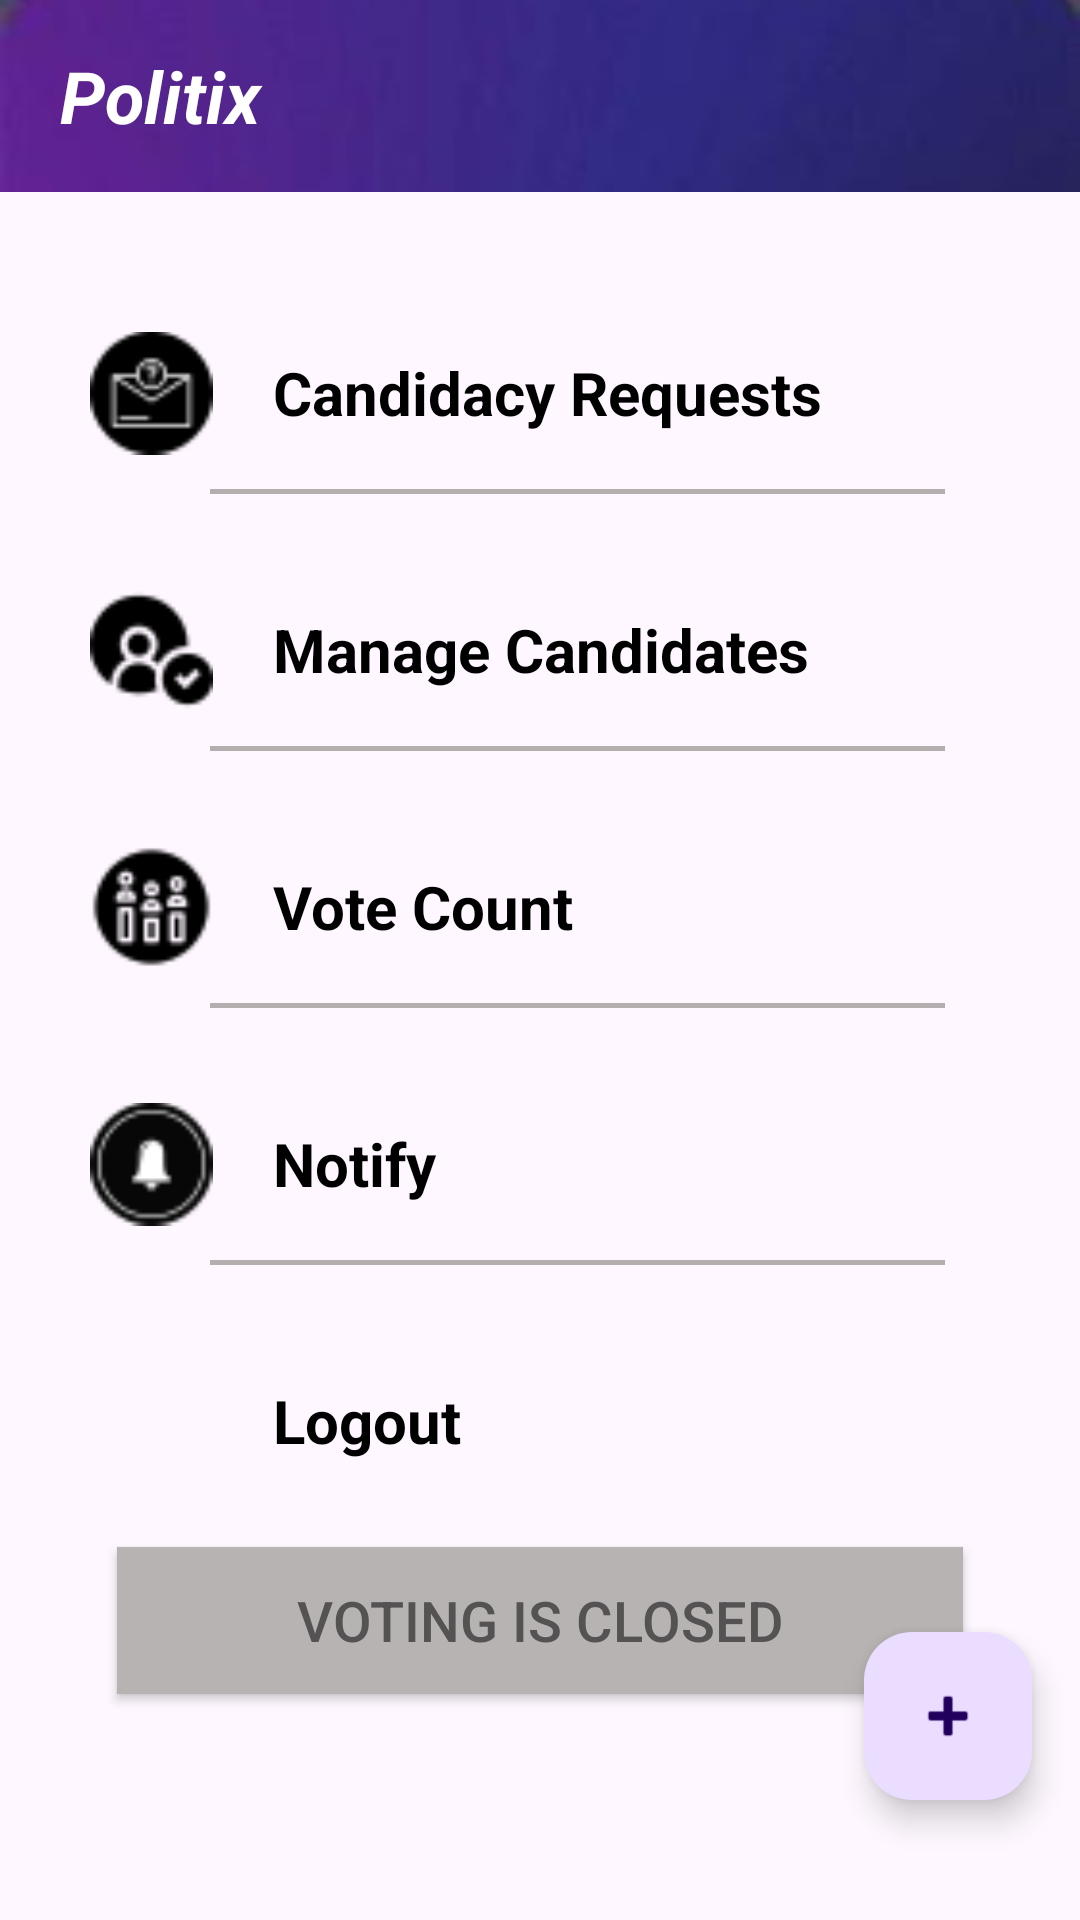

Locate icon controls on the screen. Image size 1080px×1920px, boxes as (x1, y1, x2, y2).
add: (864, 1632, 1032, 1800)
cand requests: (90, 332, 213, 455)
voting: (92, 848, 211, 966)
